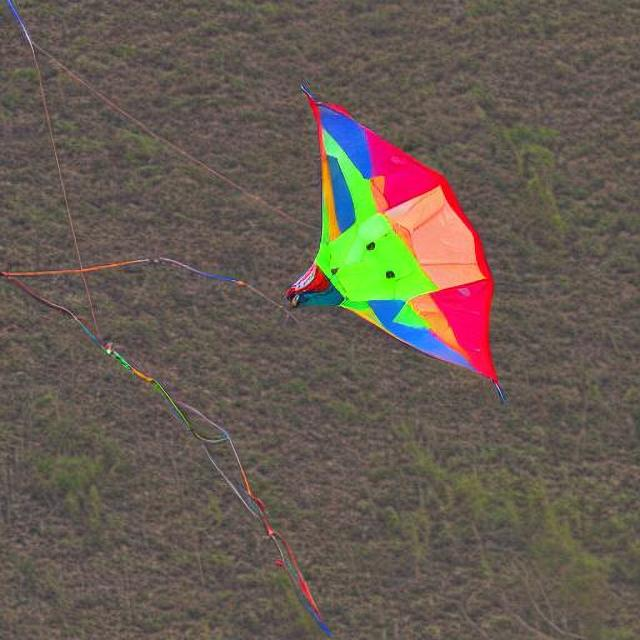floating object: (285, 76, 501, 388)
